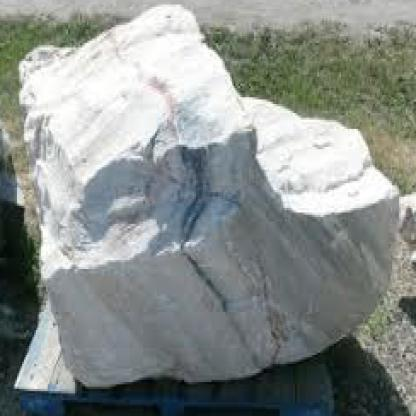Metamorphic_Marble: (13, 0, 400, 382)
